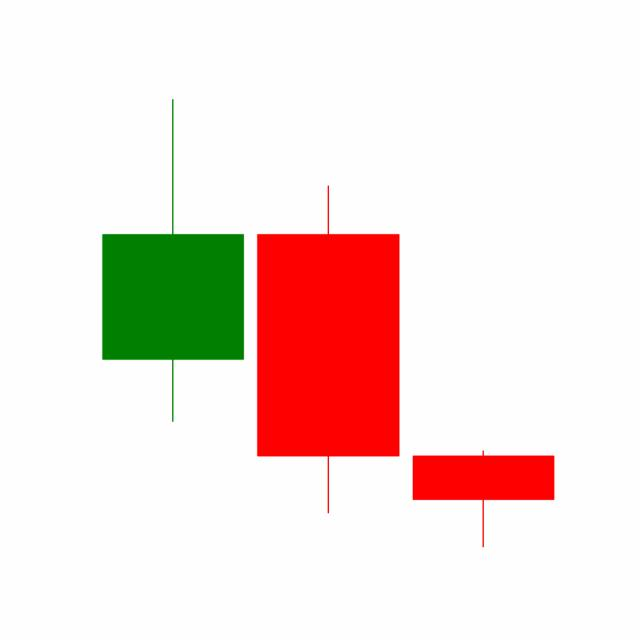Hammer: (405, 449, 561, 549)
